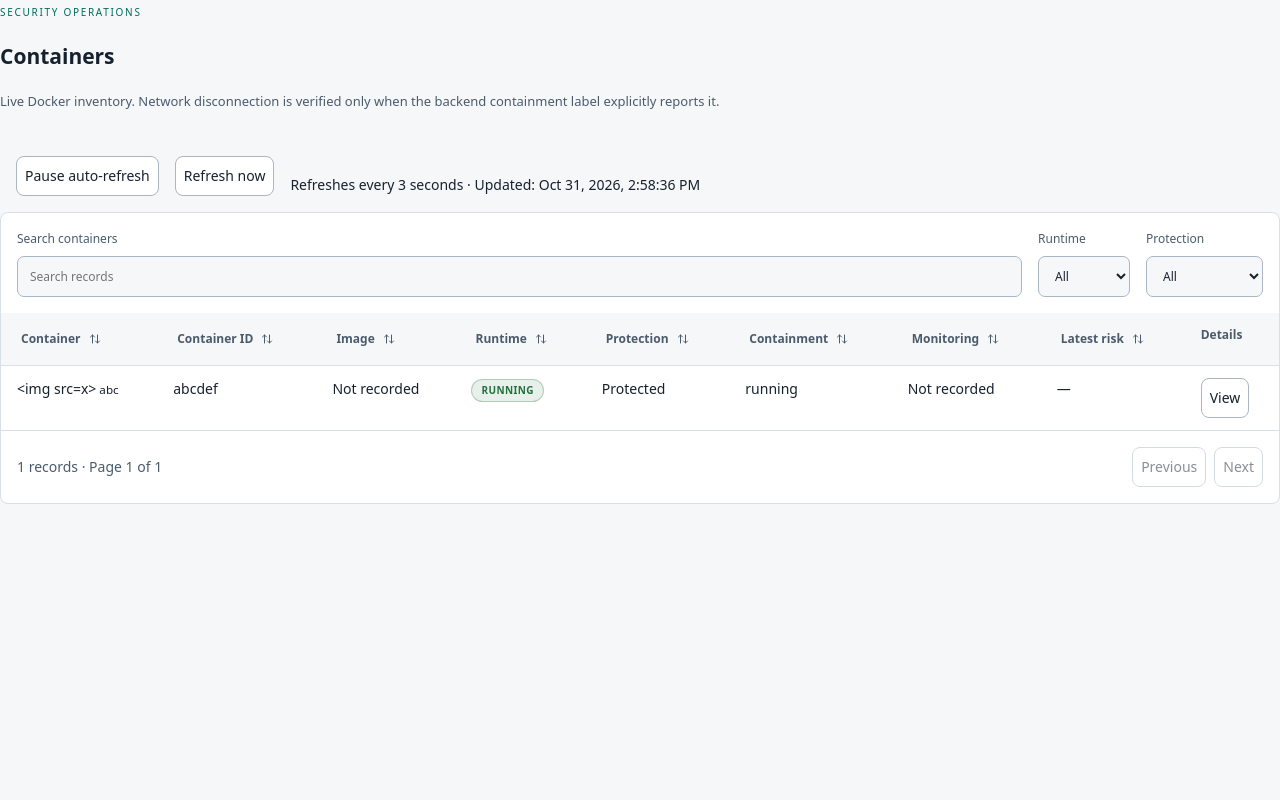
it: renders protected inventory and disables isolation, while exposing evidence history
Click the button with aria-label "View record abc". click: (1225,398)
box: [1201,378,1249,418]
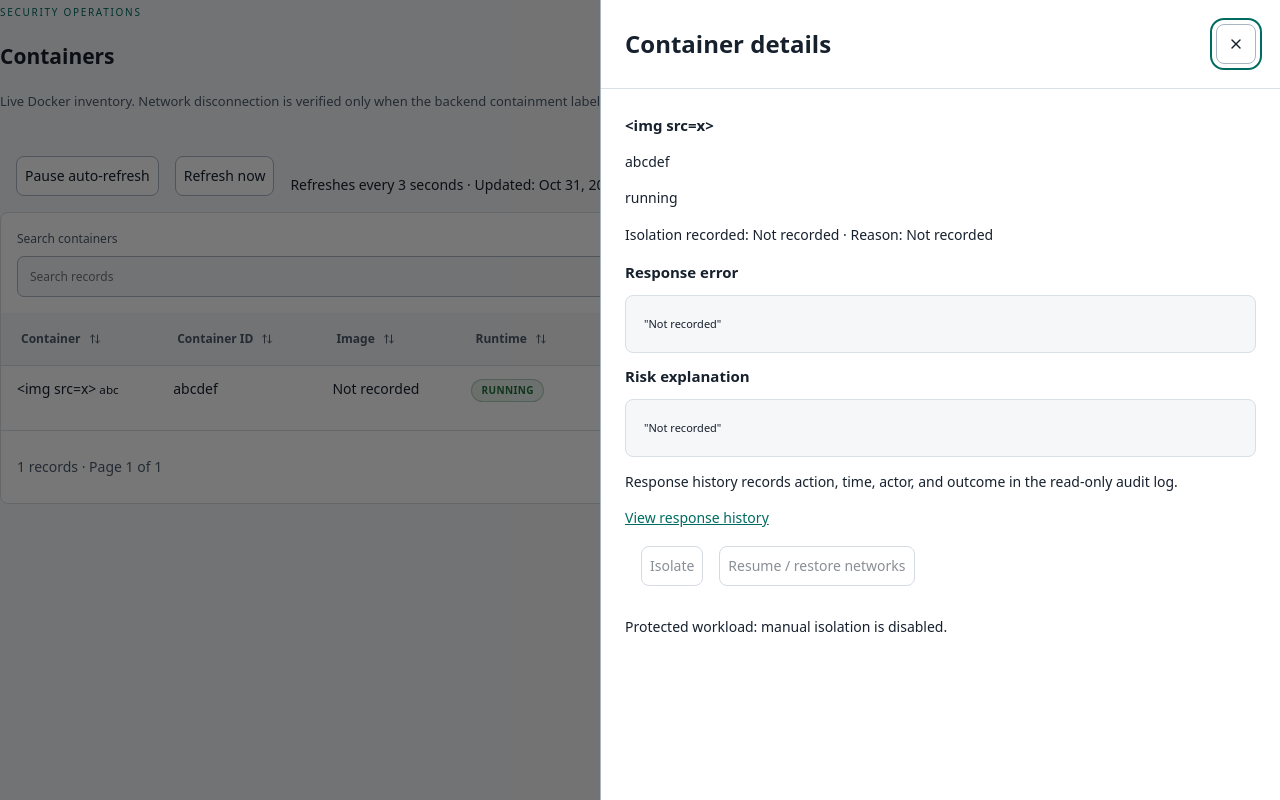
Expected: the button "Isolate" is disabled, [641,546,703,586]
Expected: the button "Resume / restore networks" is disabled, [719,546,914,586]
